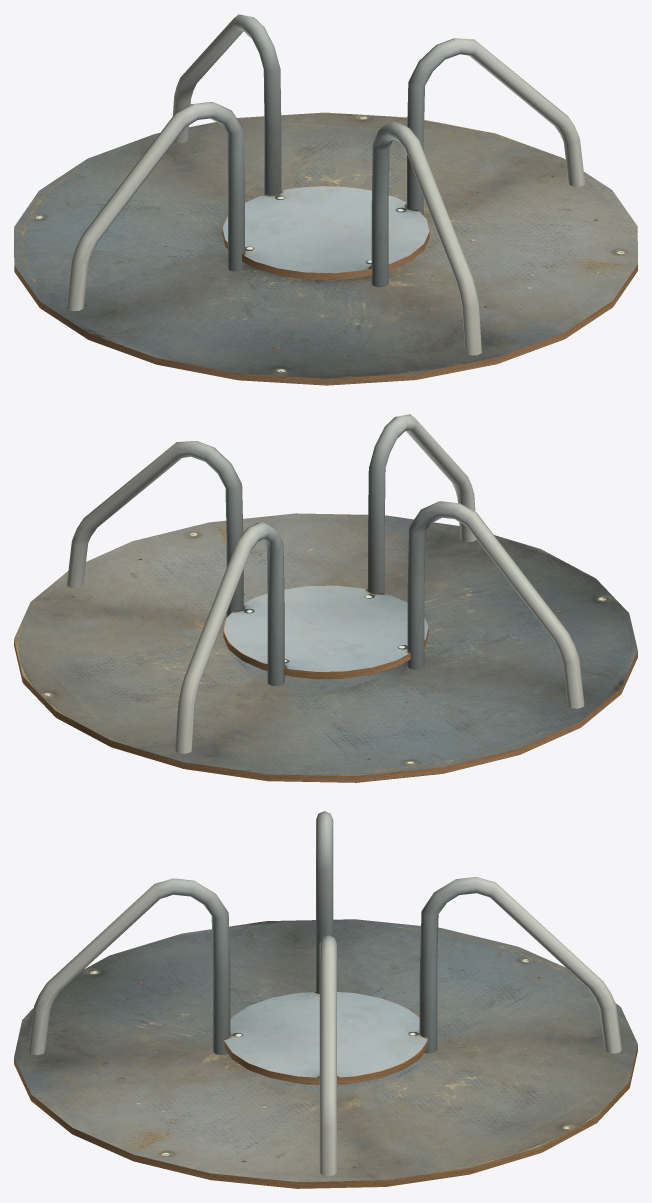
File: krutil.FBX
The picture shows the model from 3 angles, top to bottom: view 1: azimuth 30°, elevation 25°; view 2: azimuth 150°, elevation 25°; view 3: azimuth 270°, elevation 25°; orthographic projection.
Parts seen in each view (by area): view 1: Cylinder002; view 2: Cylinder002; view 3: Cylinder002.
Part boxes in pixels (x1,y1,x2,y2): Cylinder002: (14, 14, 637, 385); Cylinder002: (14, 414, 637, 782); Cylinder002: (14, 811, 637, 1188).
Bounding box in the file's own units: 38.78 × 13.81 × 38.9.
